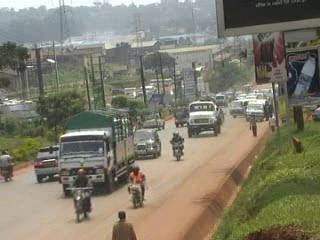Car: (28, 144, 67, 185), (132, 126, 163, 160), (171, 105, 190, 127)
Motorcycle: (68, 168, 97, 223), (126, 163, 151, 209), (164, 129, 187, 162), (0, 144, 18, 185)
